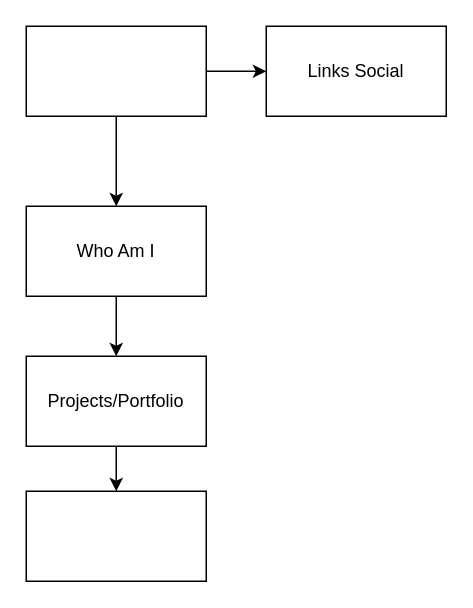
Some shapes in this 473 by 608 pixel diagram are drawn without their labels. The shapes that lost their labels are listed below. From the top down, each one's box as (x1, y1, x2, y2) in pixels, then its label:
(25, 25, 206, 116): Welcome
(25, 490, 206, 581): Links to Github & LinkedIn
